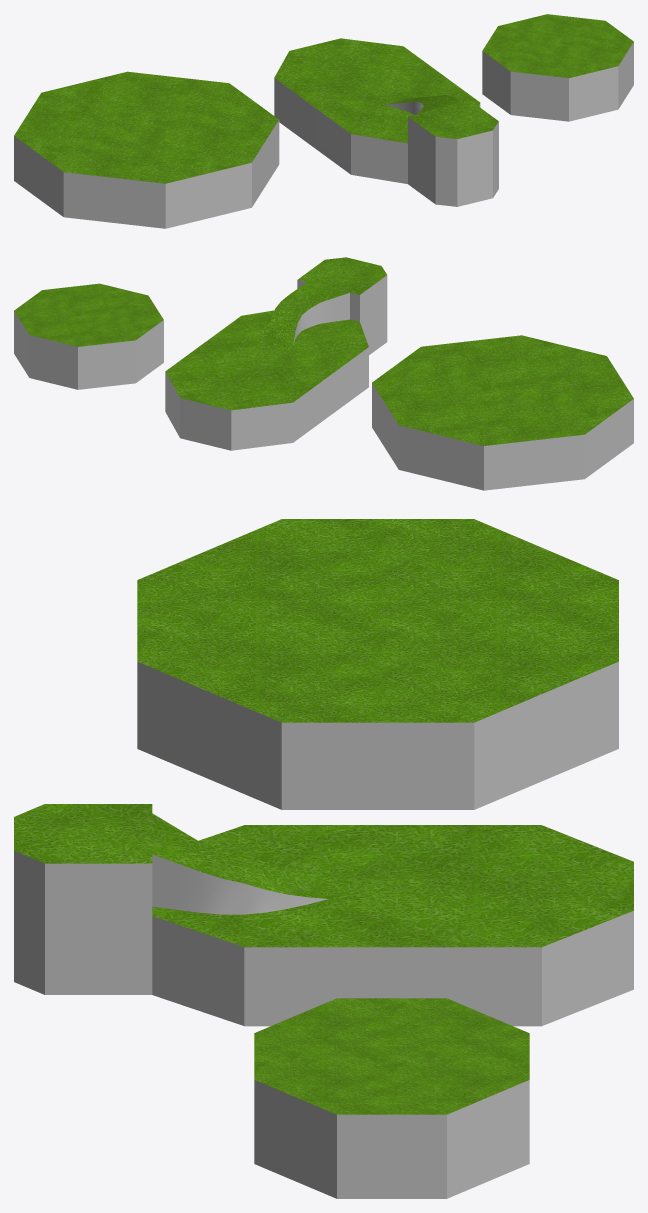
The model's file is SM_world_3_ground_01.fbx.
3 renders of one model, top to bottom at view 1: azimuth 30°, elevation 25°; view 2: azimuth 150°, elevation 25°; view 3: azimuth 270°, elevation 25°, orthographic. The views are drawn at different scales.
Visible parts, largest first — view 1: Ground; view 2: Ground; view 3: Ground.
Part boxes in pixels (x1,y1,x2,y2): Ground: (14,14,633,228); Ground: (14,257,633,490); Ground: (14,519,633,1198).
Bounding box in the file's own units: 13565 × 6436 × 1560.
